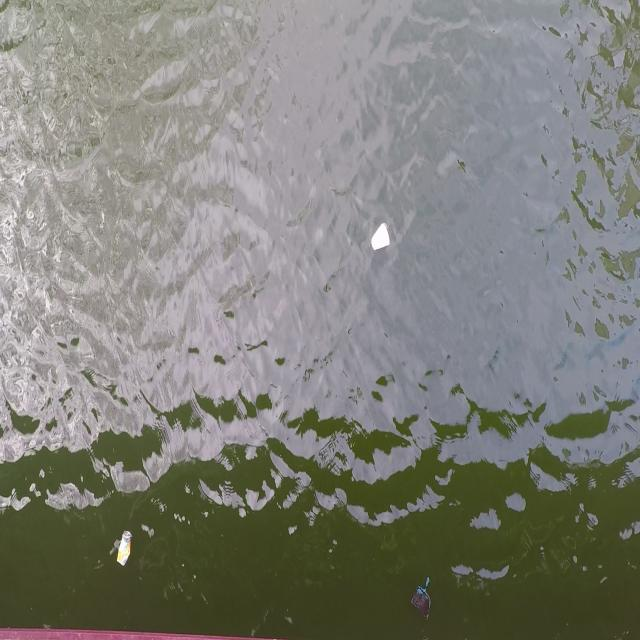Non plastique: (114, 518, 137, 578), (366, 219, 396, 259)
